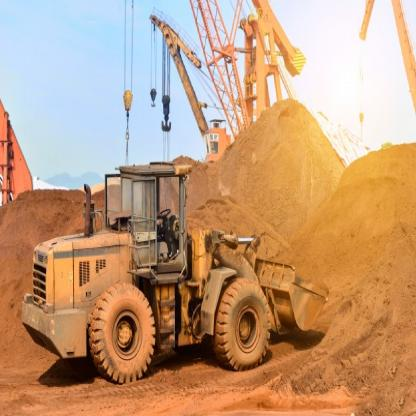bull_dozer/loader/grader: (20, 157, 342, 384)
